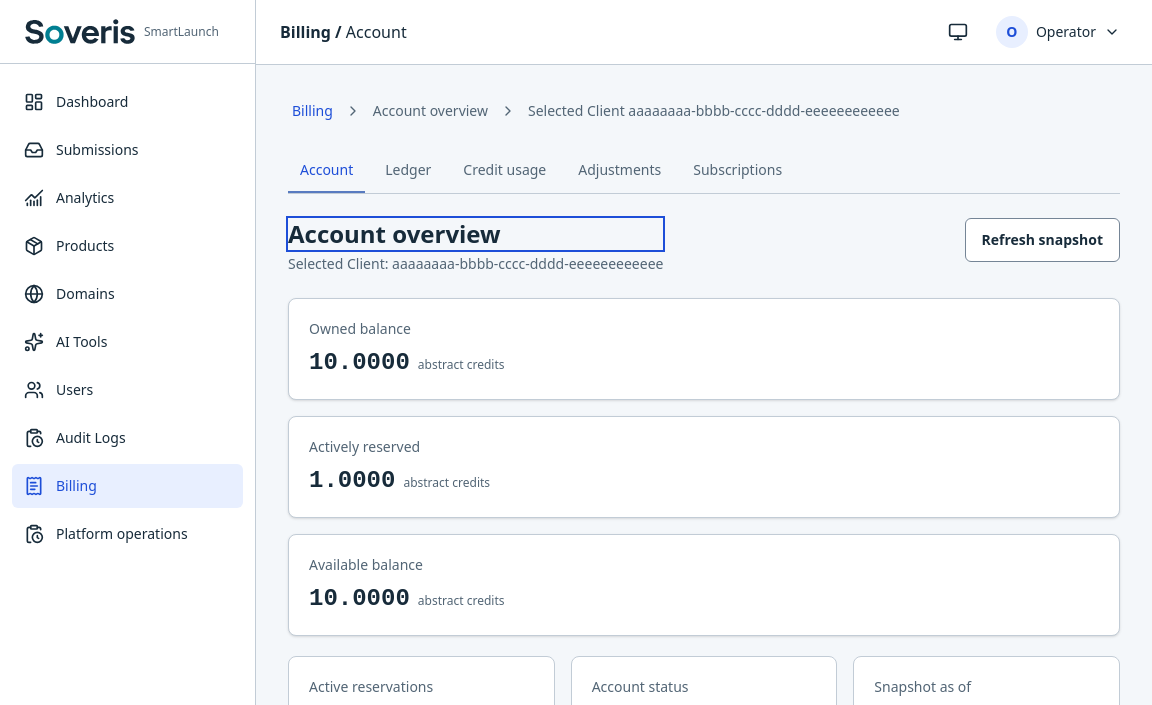
Test: Billing interactions and private transitions › keeps a same-Client snapshot visible and marks it stale after refresh failure
The image size is (1152, 705).
Expected: the text "10.0000" below "Owned balance" is shown, [309, 349, 410, 376]
Click the button "Refresh snapshot" at (1042, 240), box [964, 218, 1120, 262]
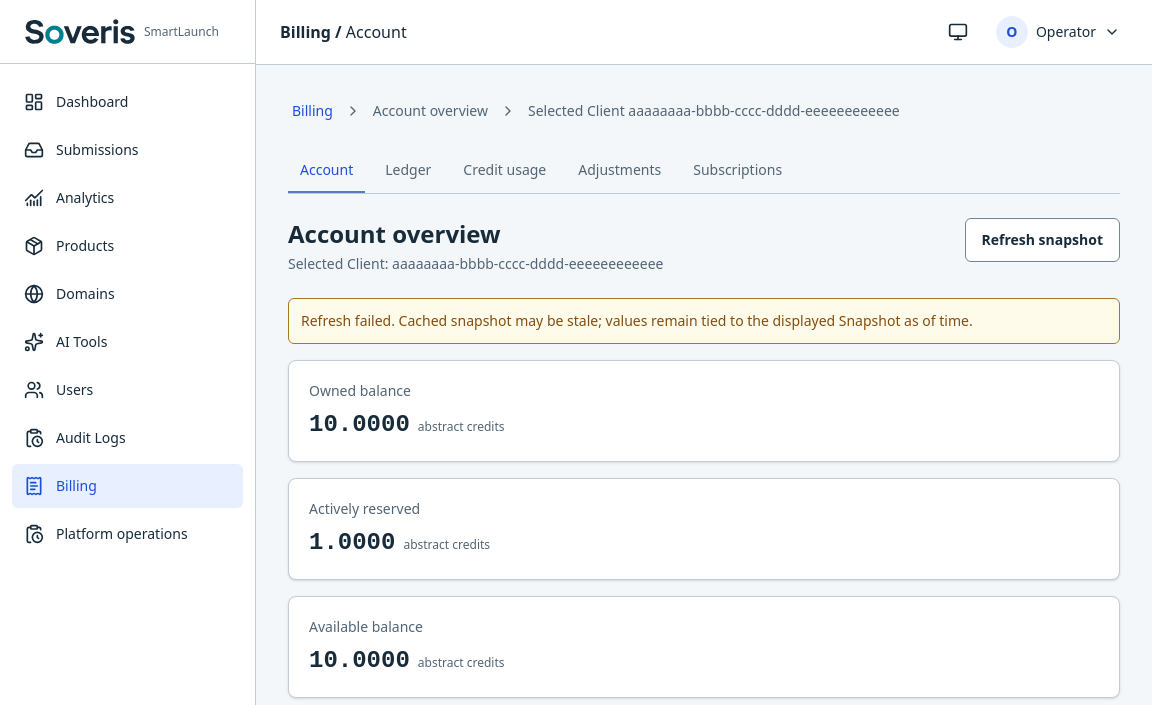
Expected: the text "Refresh failed. Cached snapshot may be stale" is shown, [301, 311, 973, 330]
